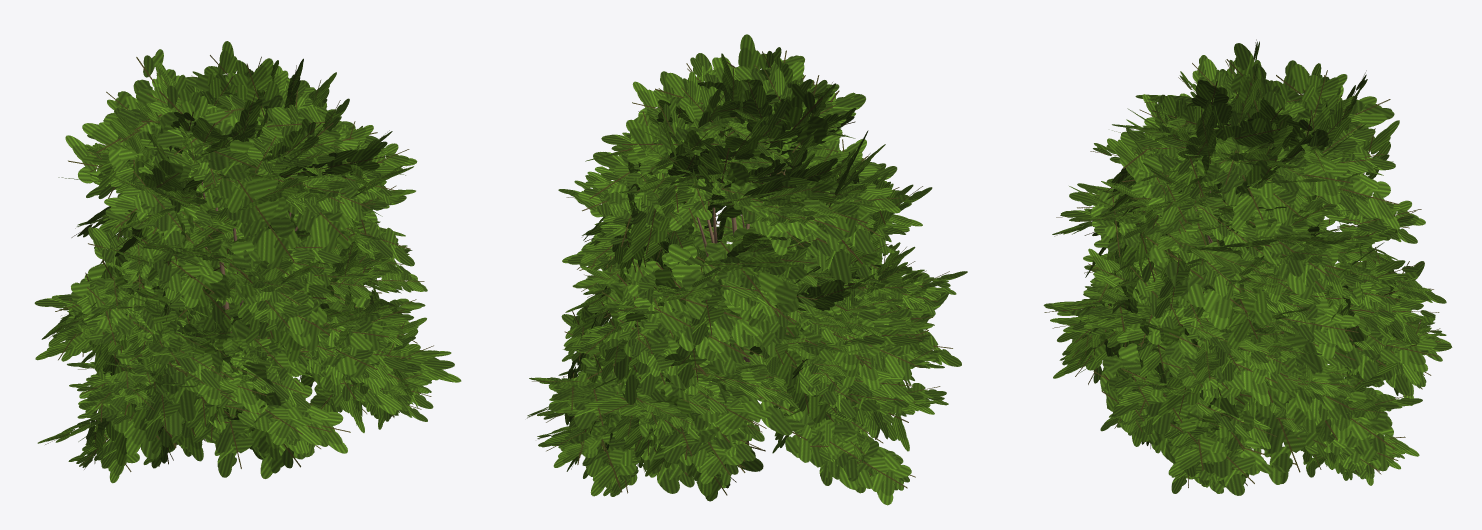
The model's file is near.glb.
The picture shows the model from 3 angles, left to right: view 1: azimuth 30°, elevation 25°; view 2: azimuth 150°, elevation 25°; view 3: azimuth 270°, elevation 25°; orthographic projection. The views are drawn at different scales.
Visible parts, largest first — view 1: foliage; view 2: foliage; view 3: foliage.
Boxes of the visible parts, x1=… form: foliage: x1=34, y1=41, x2=461, y2=483; foliage: x1=527, y1=34, x2=967, y2=505; foliage: x1=1043, y1=39, x2=1452, y2=495.
Bounding box in the file's own units: 8.73 × 8.22 × 8.69.
Materials: 2 (1 with a texture image).
